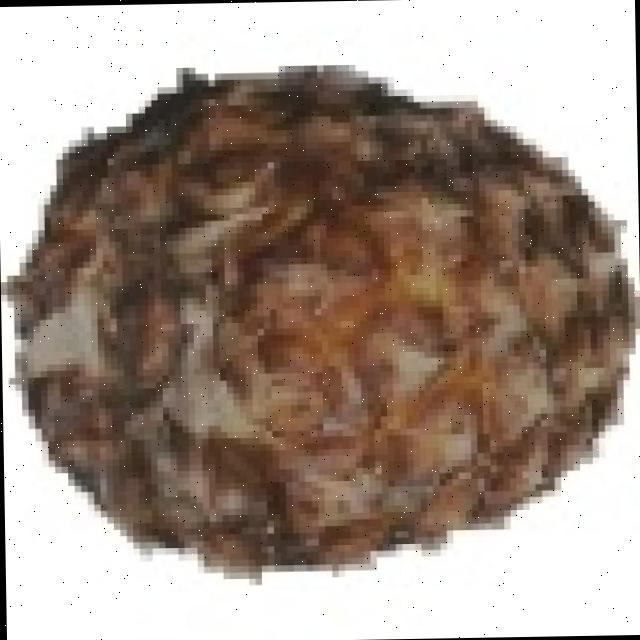pineapple: (25, 83, 640, 584)
